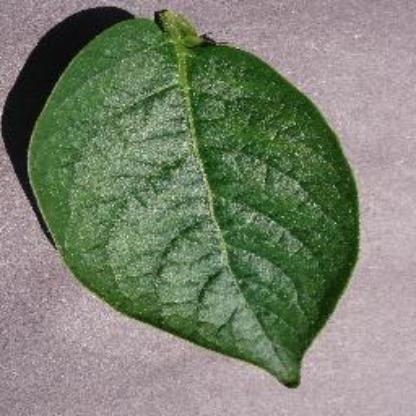Healthy-plant: (19, 9, 376, 395)
